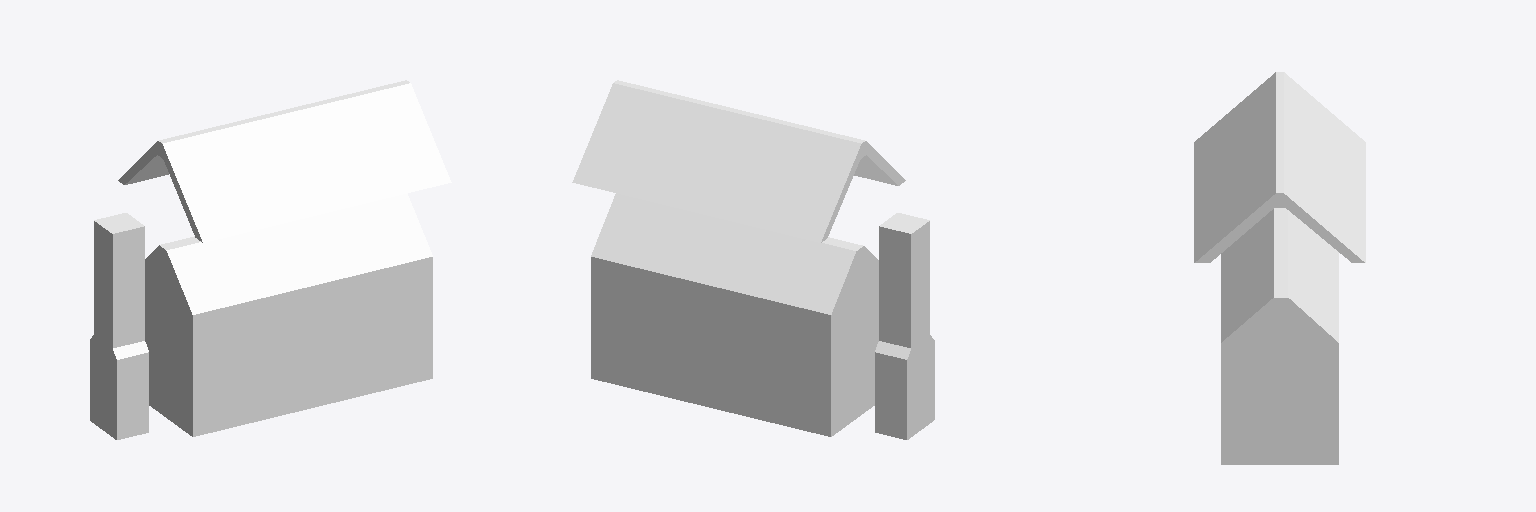
File: villiage1.obj
3 renders of one model, left to right at view 1: azimuth 30°, elevation 25°; view 2: azimuth 150°, elevation 25°; view 3: azimuth 270°, elevation 25°, orthographic.
Visible parts, largest first — view 1: mesh01, mesh02, mesh03; view 2: mesh01, mesh02, mesh03; view 3: mesh01, mesh02.
Boxes of the visible parts, <box> form: mesh01: <box>145,193,432,436</box>; mesh02: <box>118,80,451,242</box>; mesh03: <box>90,213,148,439</box>; mesh01: <box>591,193,878,436</box>; mesh02: <box>572,80,905,242</box>; mesh03: <box>875,213,934,439</box>; mesh01: <box>1221,208,1338,464</box>; mesh02: <box>1194,72,1365,262</box>.
Size of the model in its own units: 169 by 145 by 82.04.